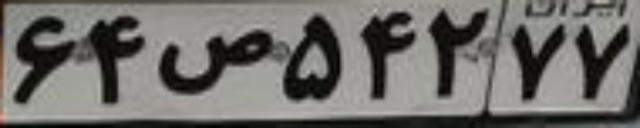2: (427, 8, 482, 98)
4: (358, 9, 418, 99), (88, 14, 145, 104)
5: (281, 13, 345, 101)
6: (9, 16, 75, 103)
7: (510, 23, 566, 102), (573, 21, 626, 101)
saat: (156, 26, 275, 94)
